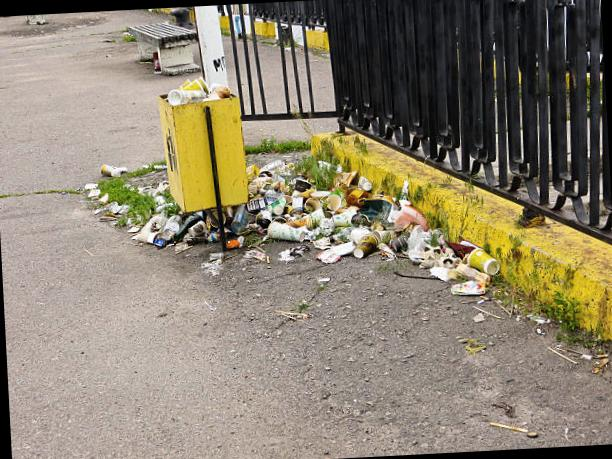trash: (247, 141, 493, 306), (96, 151, 180, 212), (136, 203, 225, 258), (76, 171, 132, 231), (159, 67, 232, 104)
trash_can_overflow: (114, 75, 392, 272)
